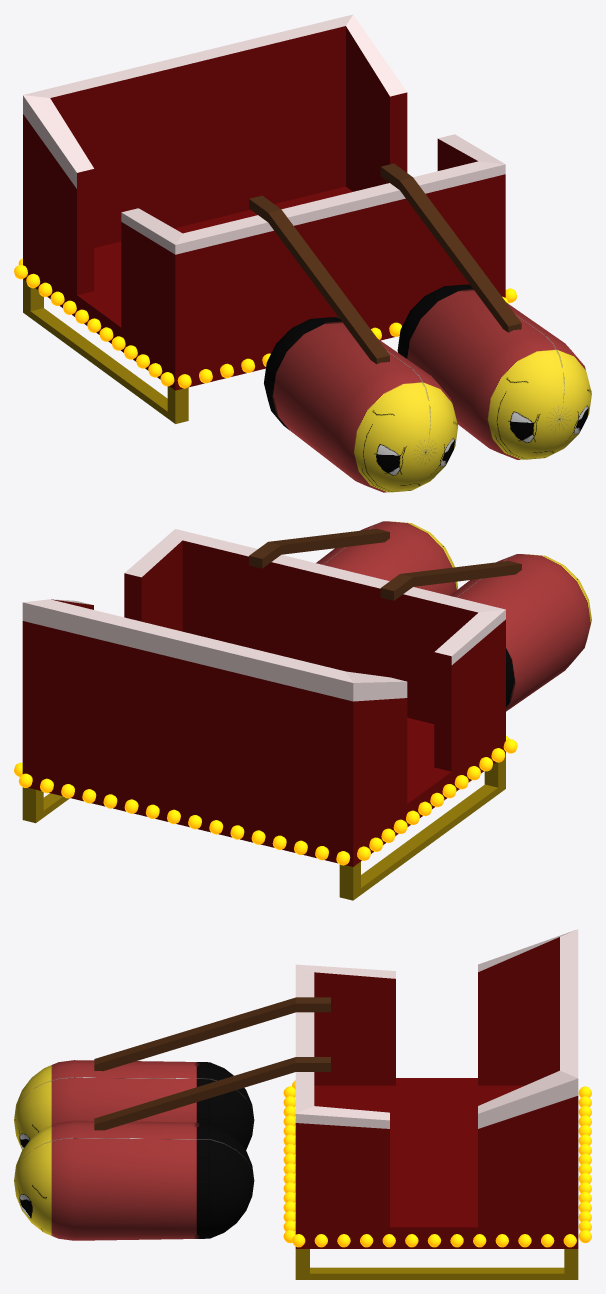
The model's file is player_xmas.glb.
3 views of the same model, one above another, from view 1: azimuth 30°, elevation 25°; view 2: azimuth 150°, elevation 25°; view 3: azimuth 270°, elevation 25° (orthographic). The views are drawn at different scales.
Visible parts, largest first — view 1: sleigh, reindeer, reins, skates, balls_right, balls_front; view 2: sleigh, reindeer, skates, reins, balls_back, balls_right; view 3: sleigh, reindeer, reins, skates, balls_back, balls_left, balls_front.
Boxes of the visible parts, bbox=[...] form: sleigh: bbox=[23, 14, 505, 390]; reindeer: bbox=[264, 284, 591, 492]; reins: bbox=[249, 163, 521, 364]; skates: bbox=[23, 279, 188, 423]; balls_right: bbox=[14, 265, 174, 386]; balls_front: bbox=[177, 296, 508, 388]; sleigh: bbox=[22, 529, 505, 866]; reindeer: bbox=[316, 521, 591, 711]; skates: bbox=[22, 755, 505, 900]; reins: bbox=[249, 528, 521, 600]; balls_back: bbox=[18, 773, 350, 865]; balls_right: bbox=[357, 739, 517, 860]; sleigh: bbox=[295, 929, 578, 1248]; reindeer: bbox=[14, 1060, 254, 1240]; reins: bbox=[94, 997, 330, 1130]; skates: bbox=[295, 1249, 578, 1279]; balls_back: bbox=[578, 1086, 591, 1243]; balls_left: bbox=[292, 1234, 576, 1247]; balls_front: bbox=[283, 1086, 295, 1243].
Size of the model in its own units: 2.69 by 1.57 by 4.09.
Materials: 6 (1 with a texture image).
